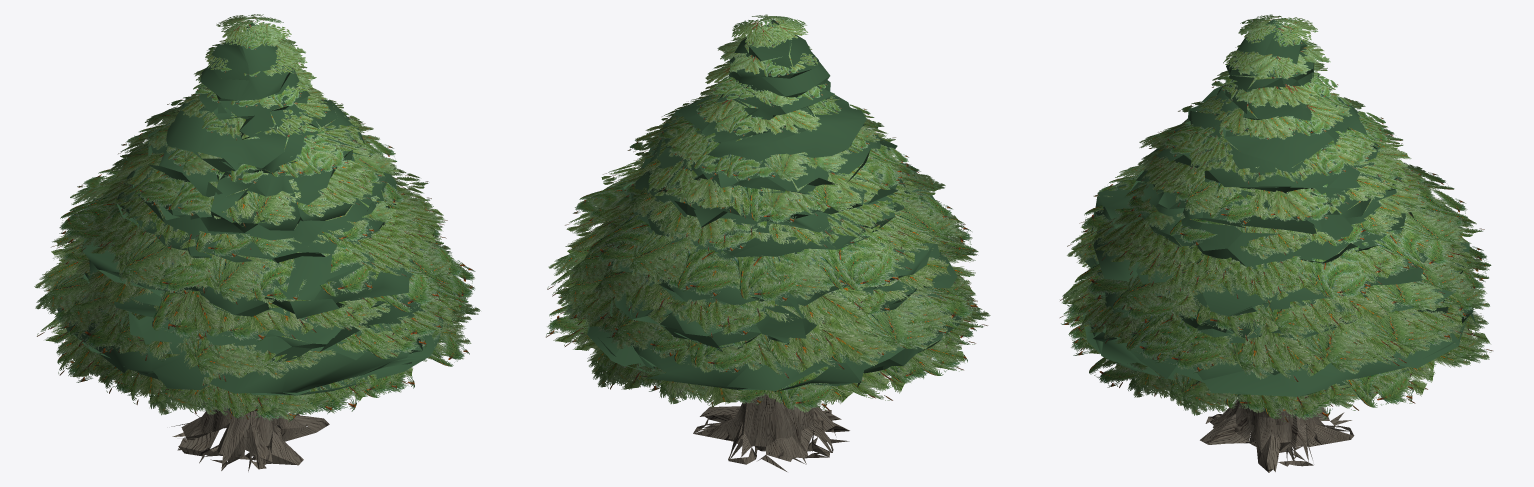
File: tree_spruce_3.glb
3 renders of one model, left to right at view 1: azimuth 30°, elevation 25°; view 2: azimuth 150°, elevation 25°; view 3: azimuth 270°, elevation 25°, orthographic.
Parts seen in each view (by area): view 1: Leaves, CrownCore, Trunk; view 2: Leaves, CrownCore, Trunk; view 3: Leaves, CrownCore, Trunk.
Boxes of the visible parts, x1,y1,x2,y2 form: Leaves: (34,14,480,421); CrownCore: (57,23,443,395); Trunk: (171,405,329,471); Leaves: (546,14,990,412); CrownCore: (586,19,965,391); Trunk: (693,393,849,471); Leaves: (1060,14,1492,422); CrownCore: (1079,19,1476,396); Trunk: (1200,77,1354,472).
Size of the model in its own units: 5.69 by 5.46 by 5.72.
Materials: 3 (2 with a texture image).
